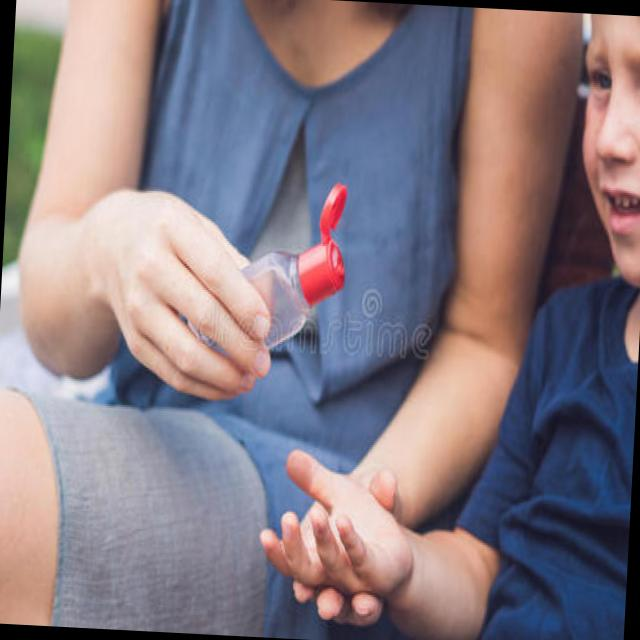sanitizer: (236, 178, 350, 328)
